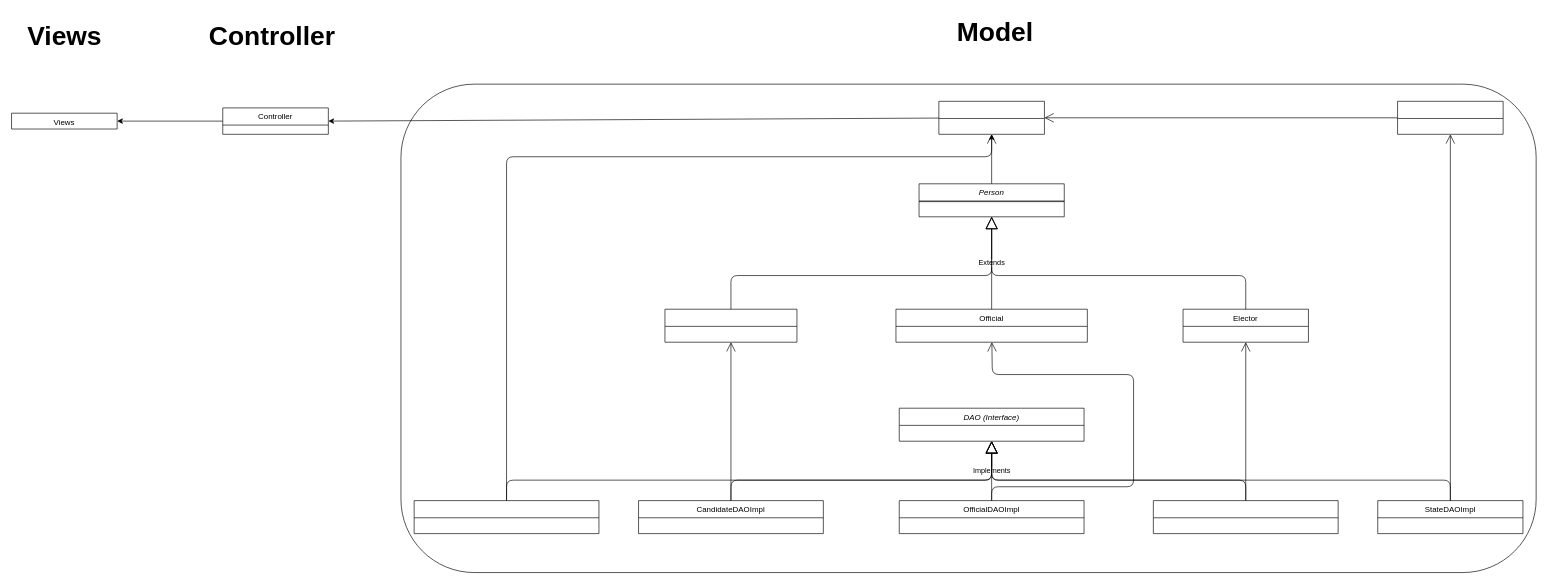
This 1548x584 diagram has some shape labels left out. Each missing label, with the centre of its shape:
"Candidate" belongs at pixel 730 325.
"Election" belongs at pixel 991 117.
"ElectionDAOImpl" belongs at pixel 506 517.
"ElectorDAOImpl" belongs at pixel 1245 517.
"State" belongs at pixel 1450 117.
